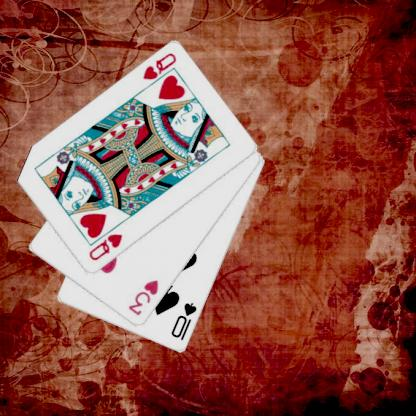10S: (168, 300, 198, 342)
3H: (125, 277, 160, 318)
QH: (140, 51, 178, 92), (86, 231, 124, 263)
